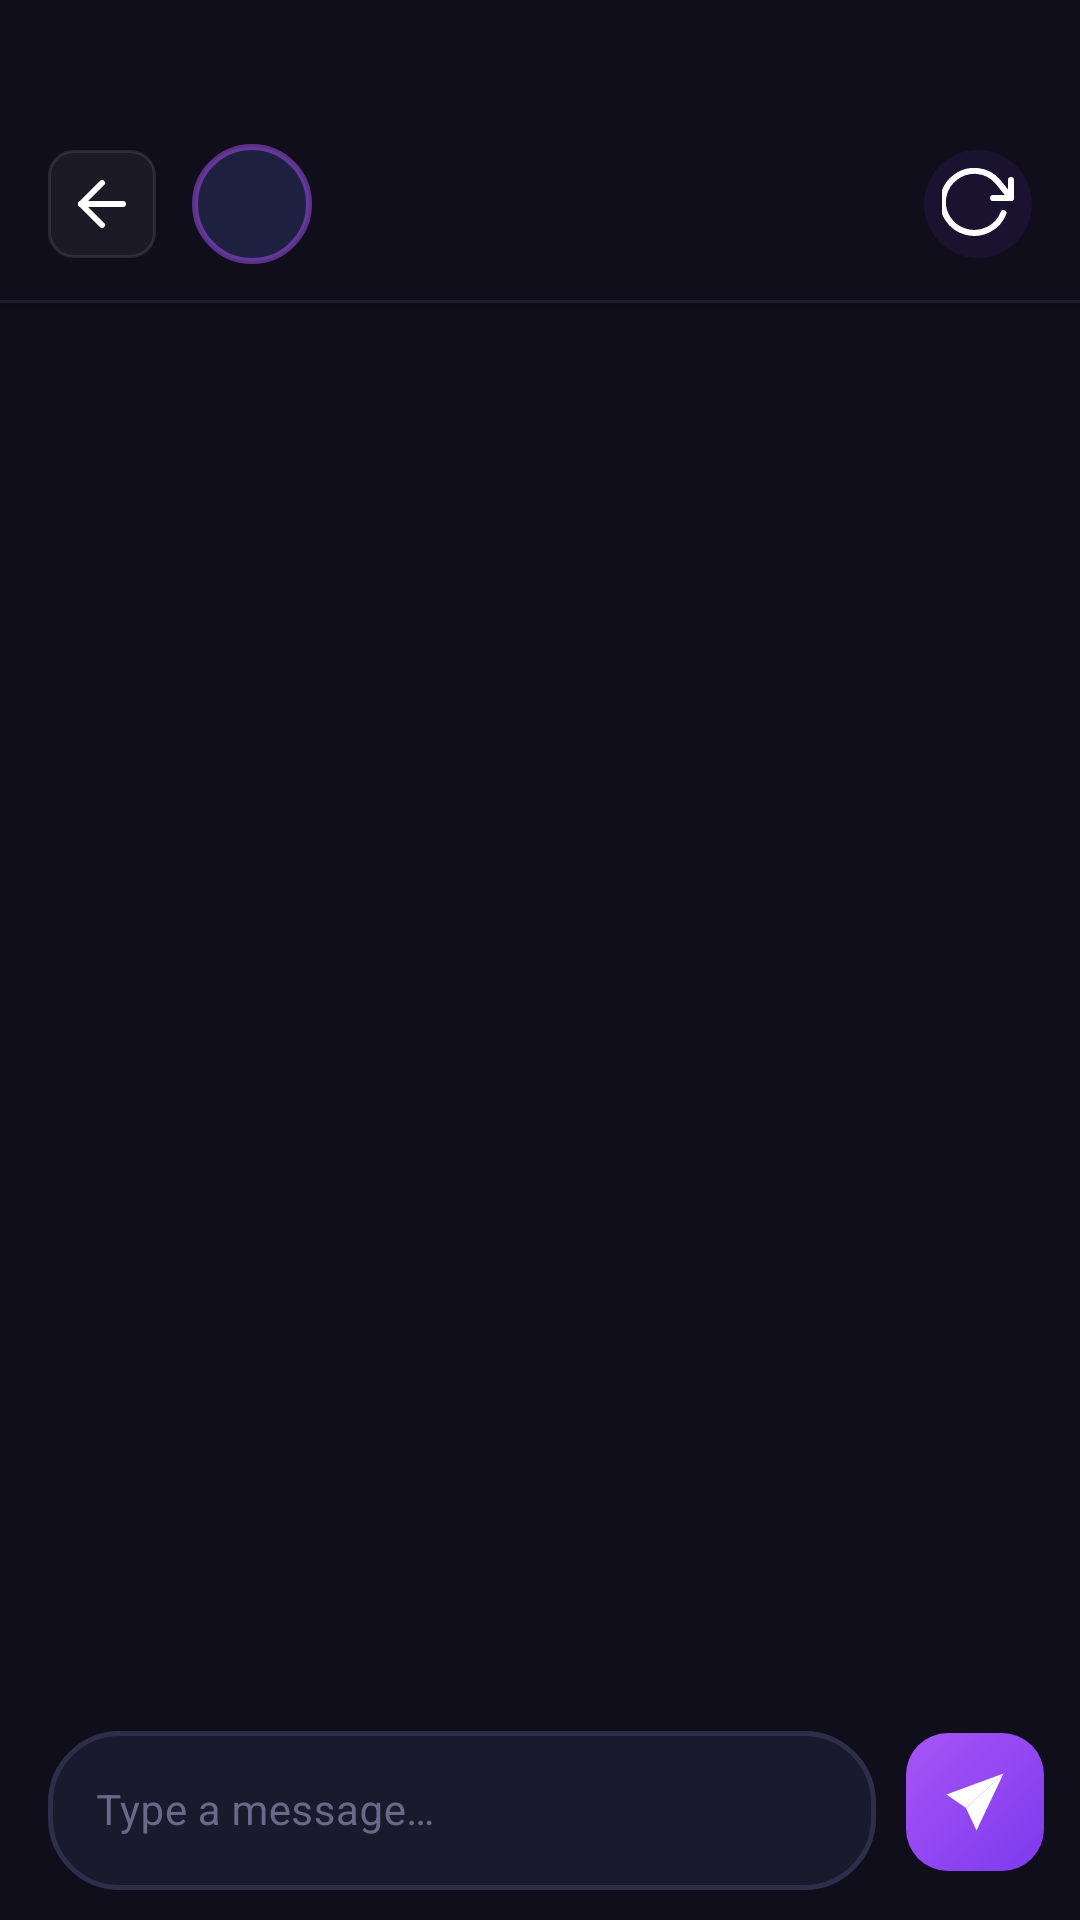

Icon click points for this 1080w x 1920h phone screenshot, format (x=x, y=y):
Back: (x=102, y=204)
Refresh: (x=978, y=204)
Send: (x=975, y=1802)
